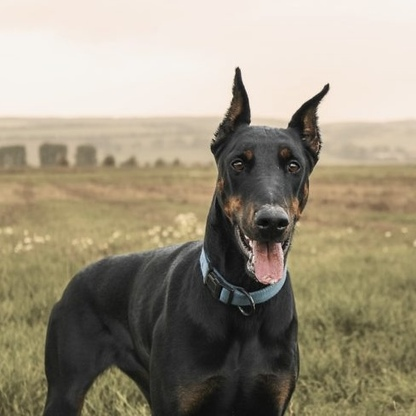doberman: (31, 66, 319, 416)
